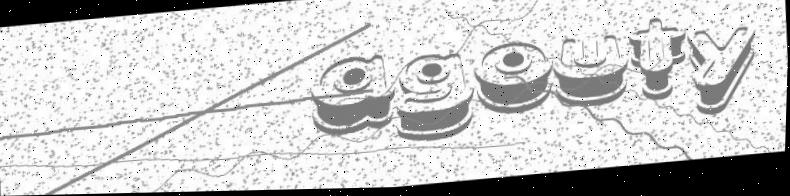a: (307, 54, 398, 141)
g: (392, 51, 479, 147)
o: (471, 40, 558, 120)
t: (625, 17, 691, 107)
u: (549, 35, 633, 113)
y: (684, 27, 760, 123)
